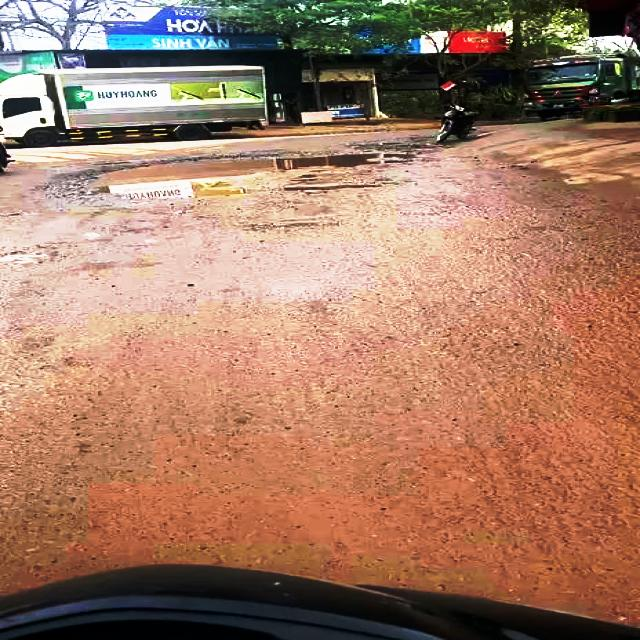pothole: (56, 145, 424, 206)
